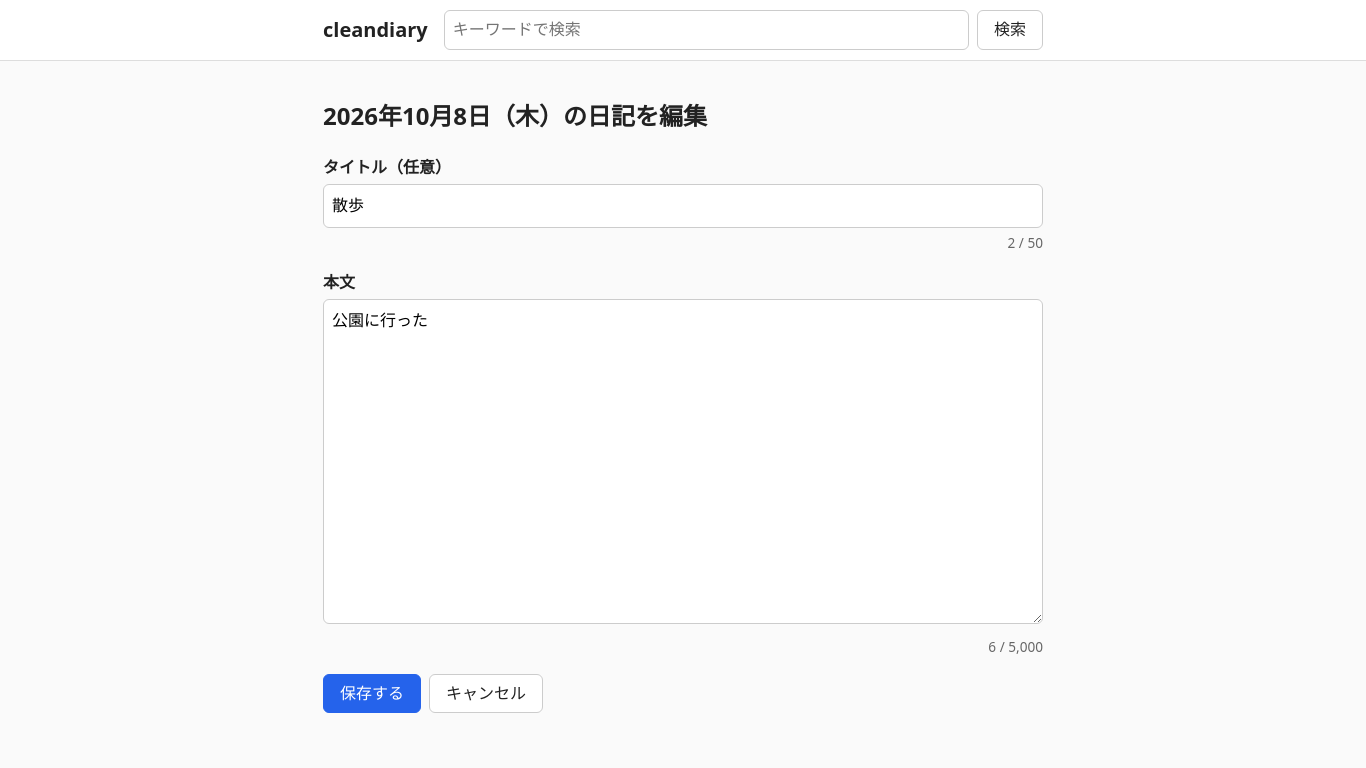
Test: 日記編集画面 › 書き直す › 保存すると上書きされ、作成日時はそのままで更新日時が変わる
Type "。楽しかった" into the text box labelled "本文".
click(683, 462); type("。楽しかった")  # box x1=323 y1=299 x2=1043 y2=624
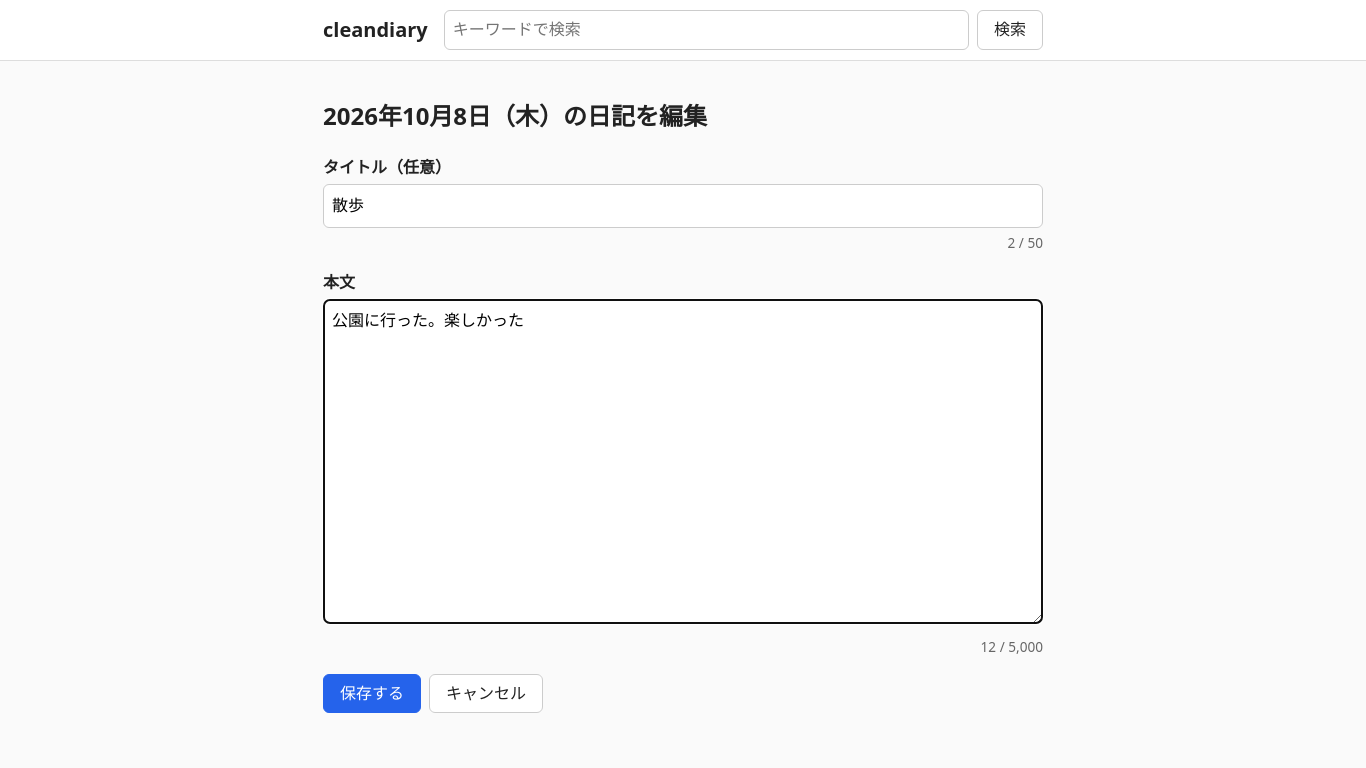
Click the button "保存する".
click(372, 694)  # box x1=323 y1=674 x2=421 y2=713
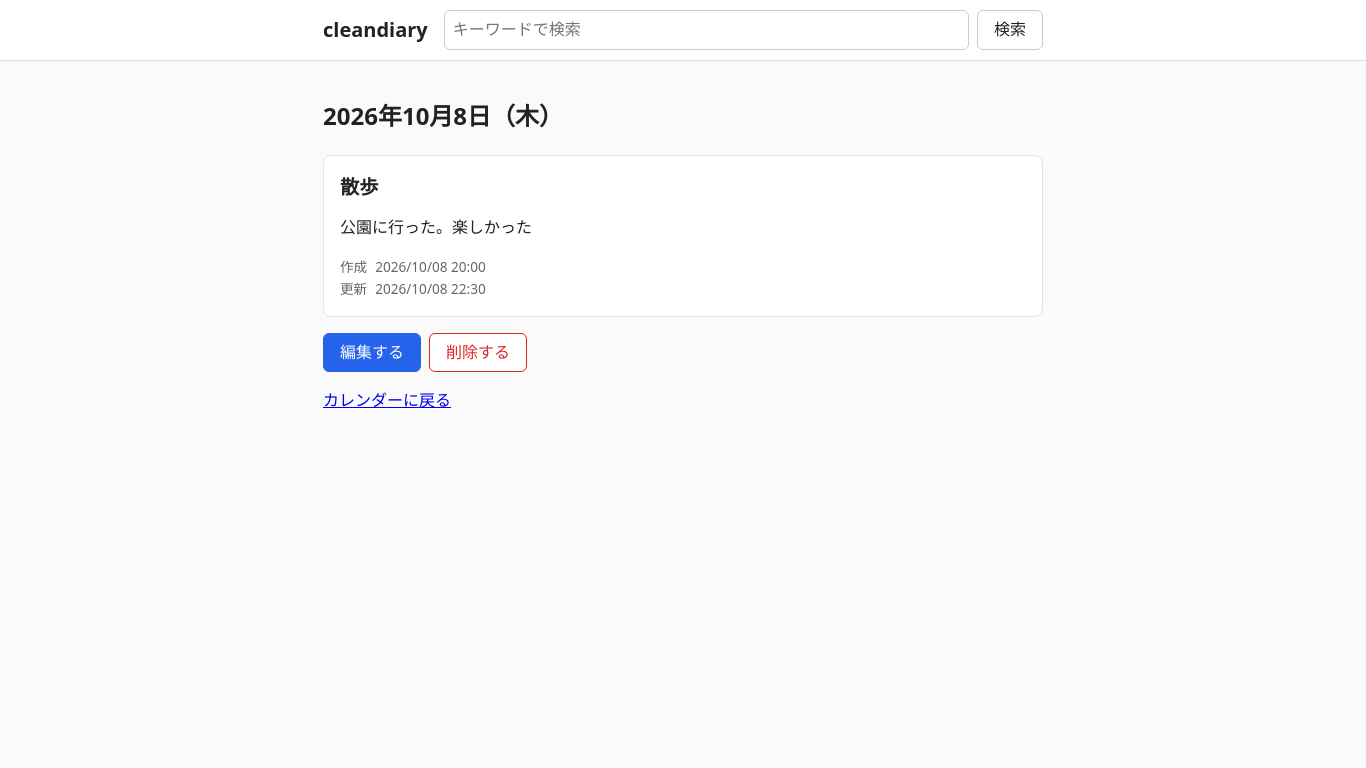
Expected: the text "公園に行った。楽しかった" is shown, x1=340 y1=216 x2=532 y2=238
Expected: the text "2026/10/08 22:30" is shown, x1=375 y1=279 x2=486 y2=298
